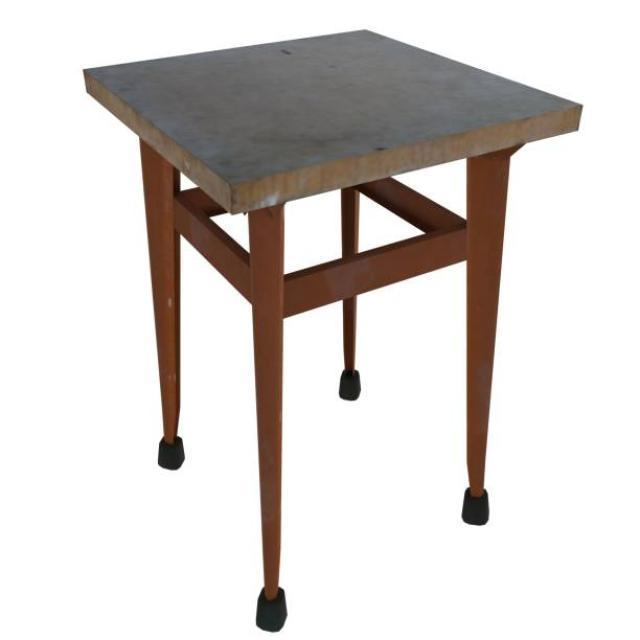table: (81, 27, 584, 631)
